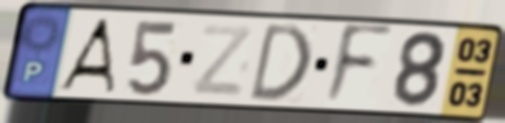5: (122, 16, 184, 98)
8: (388, 30, 448, 110)
A: (54, 16, 118, 95)
D: (245, 20, 315, 104)
F: (320, 21, 397, 110)
Z: (188, 22, 257, 100)
